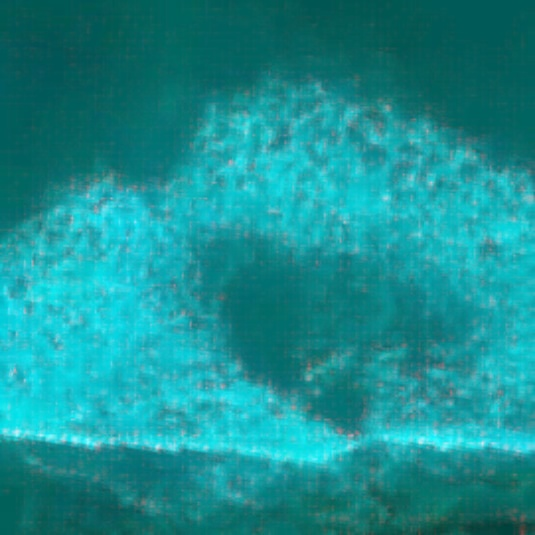rip_current: (127, 171, 422, 433)
